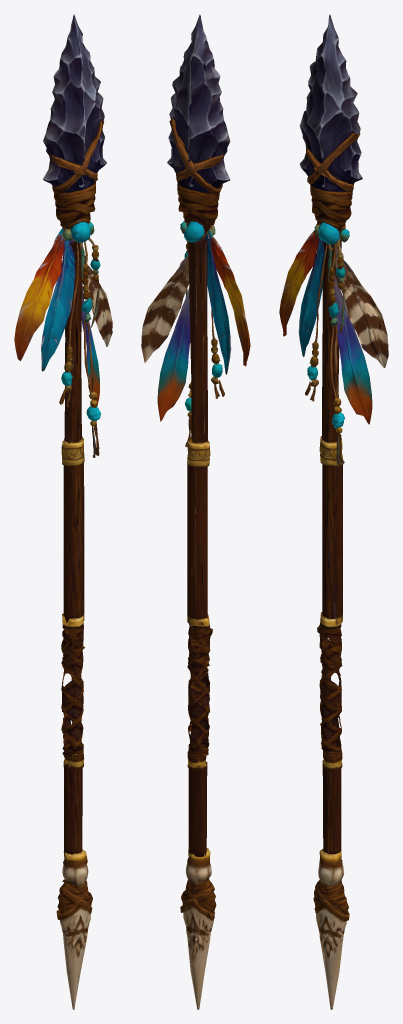
The model's file is shaman_spear.fbx.
3 views of the same model, side by side, from view 1: azimuth 30°, elevation 25°; view 2: azimuth 150°, elevation 25°; view 3: azimuth 330°, elevation 25° (orthographic).
Visible parts, largest first — view 1: geometry_0; view 2: geometry_0; view 3: geometry_0.
Boxes of the visible parts, x1,y1,x2,y2 form: geometry_0: (14,14,112,1009); geometry_0: (141,14,250,1009); geometry_0: (279,14,388,1009).
Size of the model in its own units: 10.35 by 95.07 by 3.91.
Materials: 1 (1 with a texture image).
